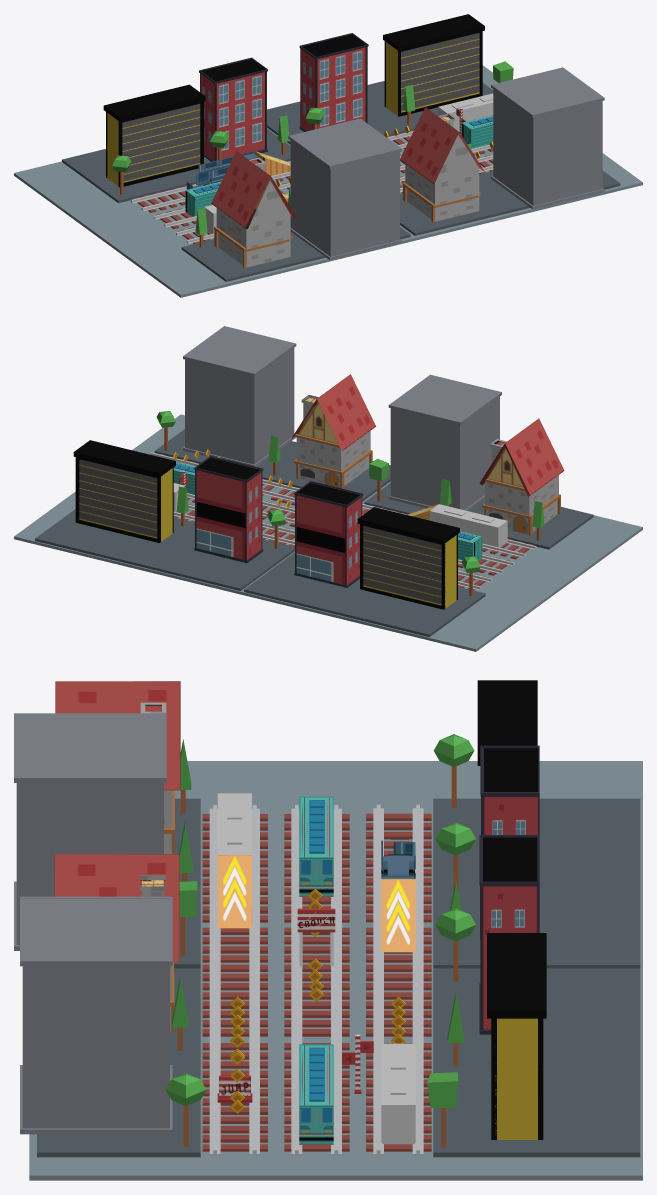
Rendered from kit 4.fbx.
The picture shows the model from 3 angles, top to bottom: view 1: azimuth 30°, elevation 25°; view 2: azimuth 150°, elevation 25°; view 3: azimuth 270°, elevation 25°; orthographic projection. The views are drawn at different scales.
Visible parts, largest first — view 1: Cube.095, Cube.100, ground.003, Cube.114, Cube.094, Cylinder.005, Cylinder.006, Cube.096, Cube.109, Cube.099, Cube.113, Cube.110 (+8 smaller); view 2: ground.003, Cube.095, Cube.100, Cube.114, Cube.094, Cube.112, Cube.099, Cylinder.006, Cube.109, Cylinder.005, Cube.096, Cube.113 (+6 smaller); view 3: ground.003, Cube.095, Cube.112, Cube.100, Cube.099, Cube.114, Cube.113, Cube.109, Cube.106, Cylinder.006, Cube.105, Cylinder.005 (+25 smaller).
Part boxes in pixels (x1,y1,x2,y2): Cube.095: (491,67,604,209); Cube.100: (288,118,401,260); ground.003: (14,65,642,297); Cube.114: (383,14,484,116); Cube.094: (103,84,205,187); Cylinder.005: (211,151,295,267); Cylinder.006: (400,107,484,221); Cube.096: (199,57,267,161); Cube.109: (299,33,368,131); Cube.099: (62,129,290,202); Cube.113: (400,171,620,235); Cube.110: (181,227,410,281); ground.003: (14,414,642,651); Cube.095: (183,326,296,466); Cube.100: (388,374,501,510); Cube.114: (73,440,175,542); Cube.094: (357,507,459,609); Cube.112: (35,509,294,590); Cube.099: (244,552,485,637); Cylinder.006: (291,374,375,488); Cube.109: (194,456,263,562); Cylinder.005: (479,418,564,535); Cube.096: (294,481,363,587); Cube.113: (154,429,390,501); ground.003: (29,761,642,1180); Cube.095: (20,896,172,1134); Cube.112: (433,968,640,1157); Cube.100: (14,713,166,950); Cube.099: (433,798,640,968); Cube.114: (487,933,546,1139); Cube.113: (37,968,200,1157); Cube.109: (479,835,538,1034); Cube.106: (202,918,267,1038); Cylinder.006: (54,854,179,1032); Cube.105: (284,919,349,1038); Cylinder.005: (55,681,180,854).
Bounding box in the file's own units: 3600 × 739 × 2307.
